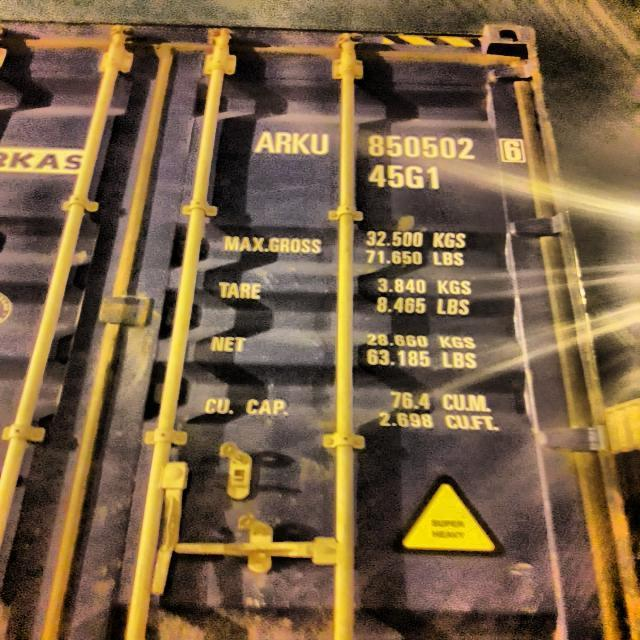ISO: (368, 166, 444, 191)
container_number: (244, 122, 534, 170)
